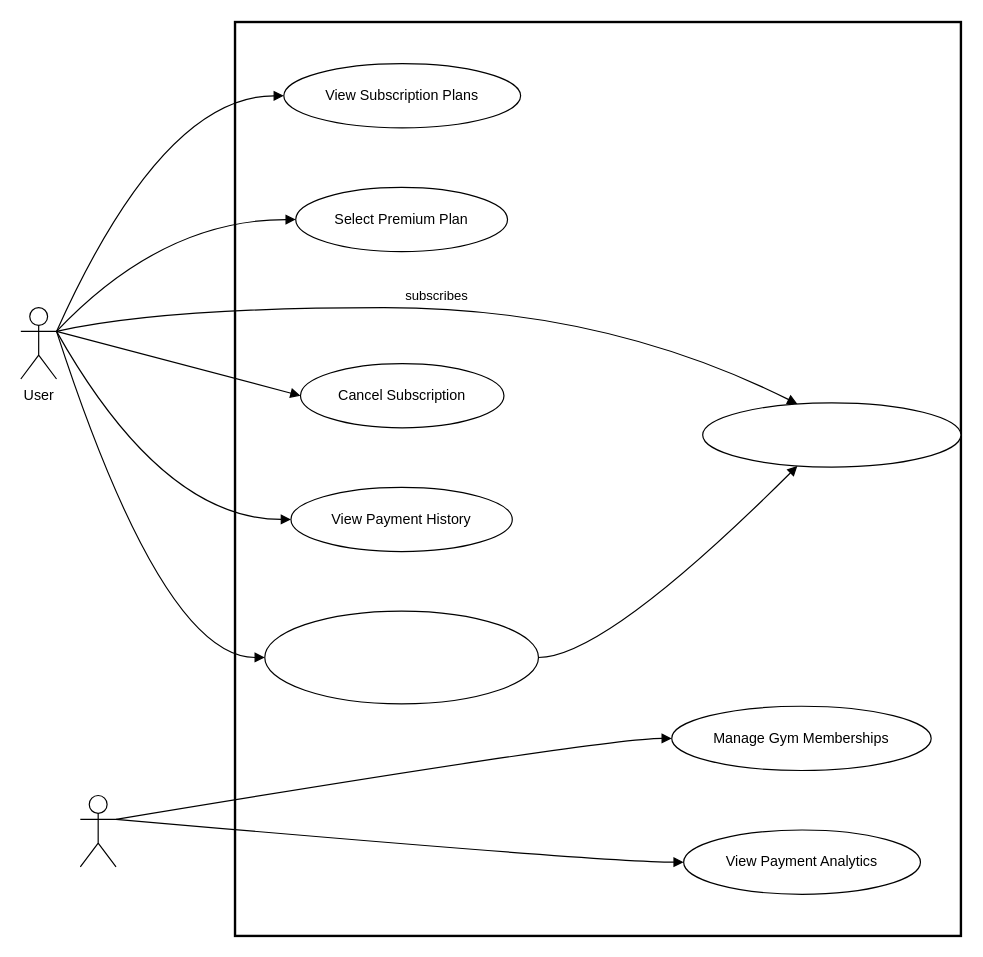
The diagram is 983 pixels wide and 957 high, and some of its shapes have lost their labels. Here are the shapes that lost their labels. From the top down, the centre of each, then its label:
At pixel 831 434: "Subscribe to App Premium".
At pixel 401 657: "Subscribe to Gym Membership".
At pixel 97 830: "Admin".
